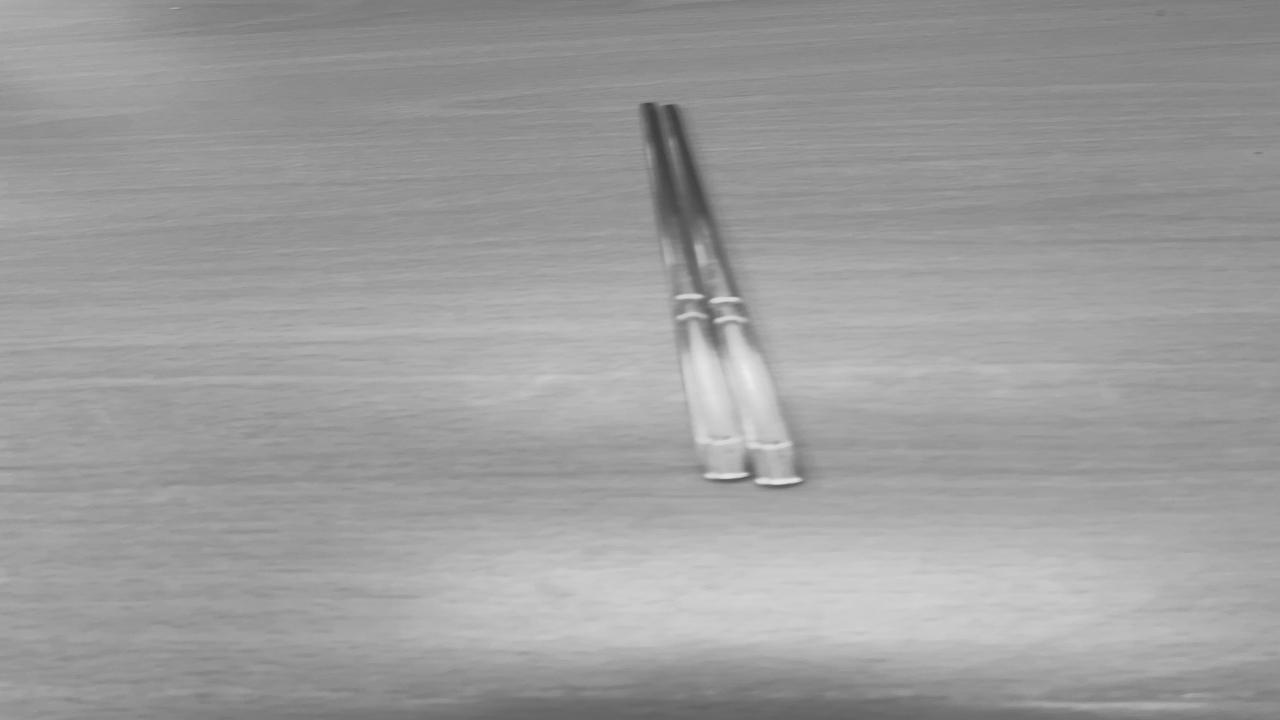chopstick: (643, 104, 800, 485)
